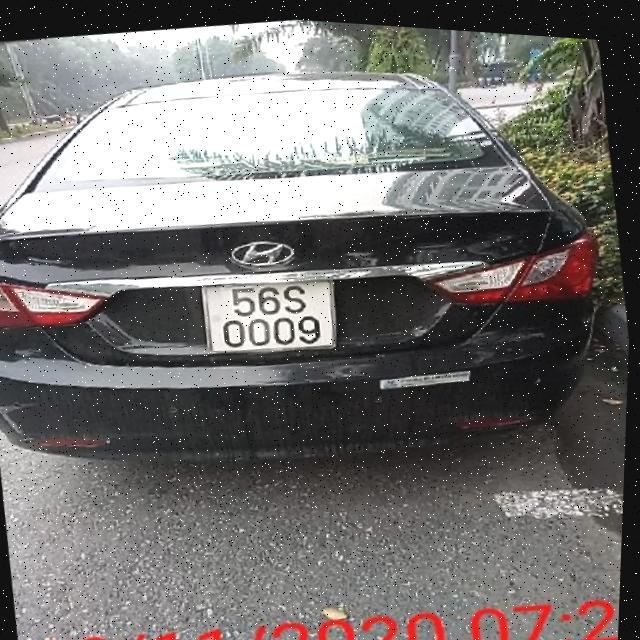car: (0, 0, 640, 529)
plate: (190, 259, 349, 372)
